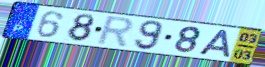6: (36, 10, 65, 39)
8: (64, 13, 95, 44), (173, 25, 203, 54)
9: (133, 19, 165, 51)
A: (196, 29, 232, 59)
R: (94, 15, 136, 50)
